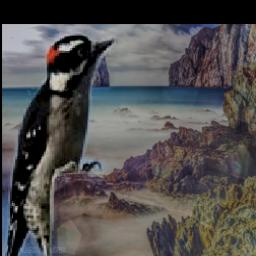Woodpecker: (4, 33, 117, 256)
